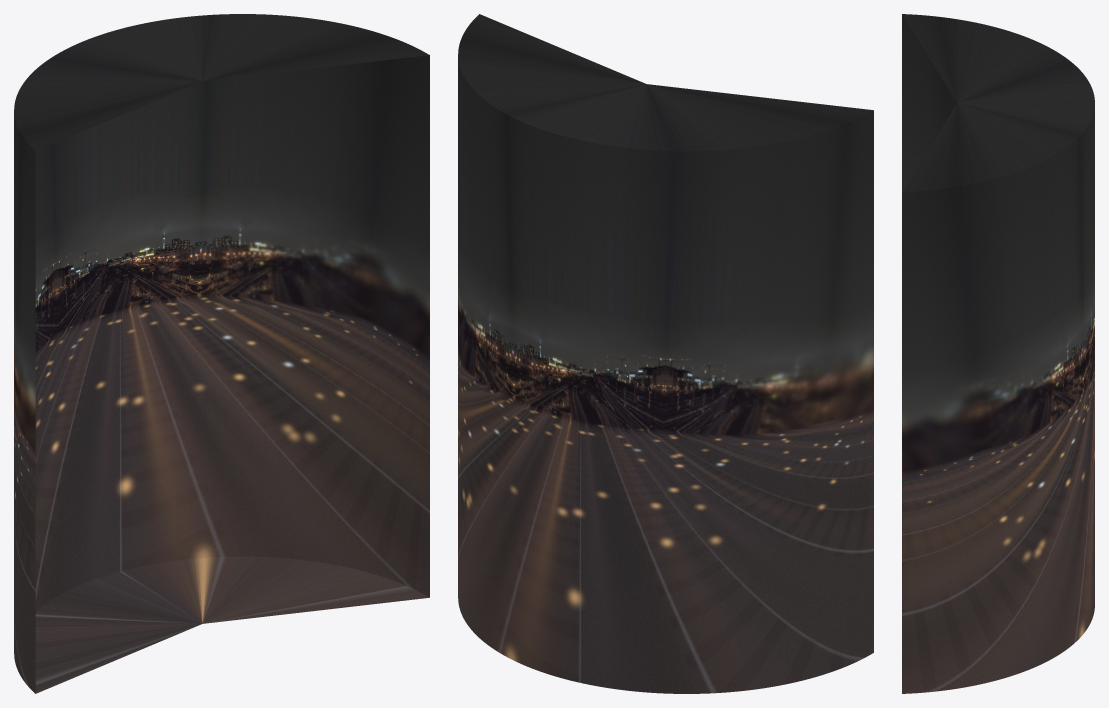
Rendered from sakina-view-r5.glb.
3 views of the same model, side by side, from view 1: azimuth 30°, elevation 25°; view 2: azimuth 150°, elevation 25°; view 3: azimuth 270°, elevation 25° (orthographic). The views are drawn at different scales.
Visible parts, largest first — view 1: WindowView_Pano, WindowView_Photo; view 2: WindowView_Pano; view 3: WindowView_Pano.
Boxes of the visible parts, bbox=[...] form: WindowView_Pano: bbox=[14, 14, 429, 693]; WindowView_Photo: bbox=[56, 189, 203, 331]; WindowView_Pano: bbox=[458, 14, 873, 693]; WindowView_Pano: bbox=[902, 14, 1094, 693].
Bounding box in the file's own units: 159 × 210 × 73.03.
Materials: 2 (2 with a texture image).
